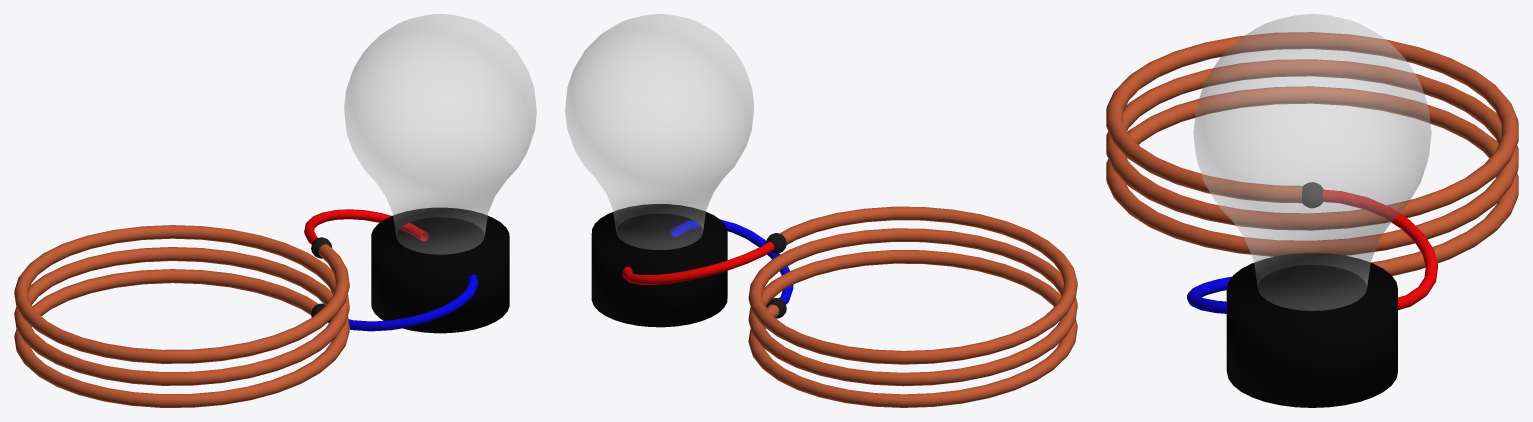
File: coil.glb
The picture shows the model from 3 angles, left to right: view 1: azimuth 30°, elevation 25°; view 2: azimuth 150°, elevation 25°; view 3: azimuth 270°, elevation 25°; orthographic projection. The views are drawn at different scales.
Visible parts, largest first — view 1: bulb, coil, blueWire, redWire; view 2: bulb, coil, redWire, blueWire; view 3: bulb, coil, redWire, blueWire, redJoint.
Part boxes in pixels (x1,y1,x2,y2): bulb: [344, 14, 536, 333]; coil: [14, 225, 349, 407]; blueWire: [328, 274, 478, 331]; redWire: [304, 209, 428, 244]; bulb: [565, 14, 753, 327]; coil: [748, 206, 1077, 407]; redWire: [622, 241, 774, 284]; blueWire: [671, 219, 793, 304]; bulb: [1193, 14, 1431, 407]; coil: [1106, 32, 1518, 275]; redWire: [1322, 189, 1437, 310]; blueWire: [1187, 276, 1231, 313]; redJoint: [1302, 182, 1323, 208].
Bounding box in the file's own units: 0.8393 × 0.4625 × 0.4988.
